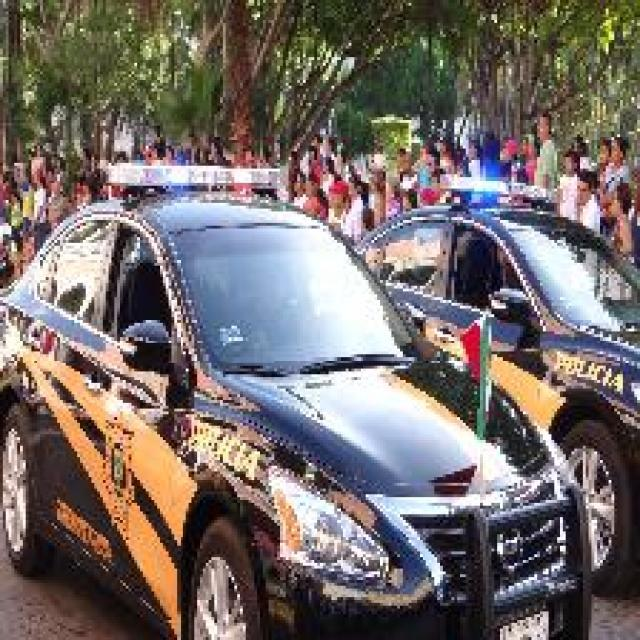emergency: (1, 162, 596, 638)
